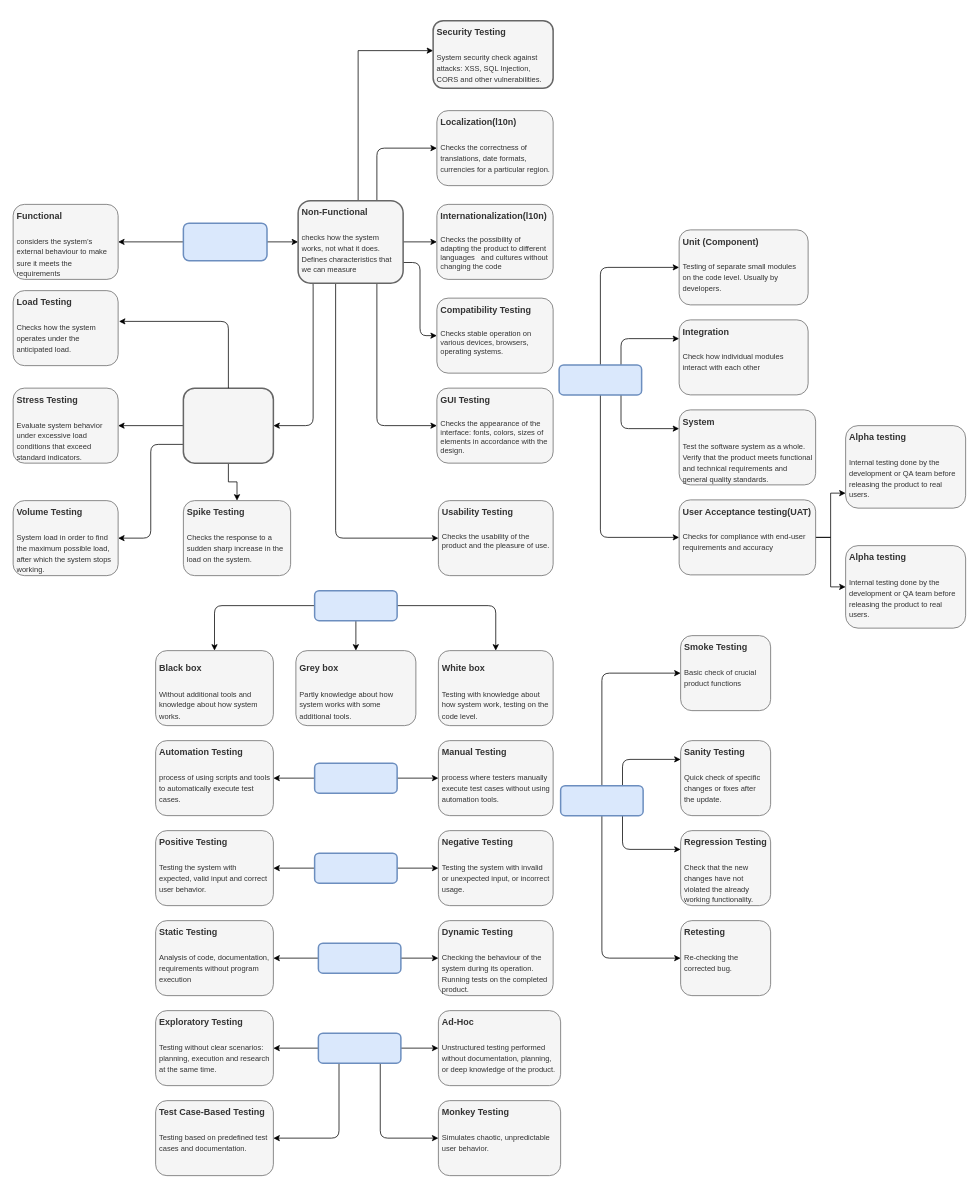
This 979x1189 diagram has some shape labels left out. Each missing label, with the box of its shape:
Basis of Scenarios: (314, 852, 398, 884)
Code execution status: (317, 942, 401, 974)
Degree of Automation: (314, 762, 398, 794)
Knowledge of the System: (314, 590, 398, 621)
Level of Preparation: (317, 1032, 401, 1064)
Levels of the Testing: (558, 364, 642, 395)
Object of Testing: (182, 222, 267, 261)
Performance Checks the stability of the system operation at a certain load.: (182, 387, 274, 464)
Related to Changes: (560, 784, 644, 816)
